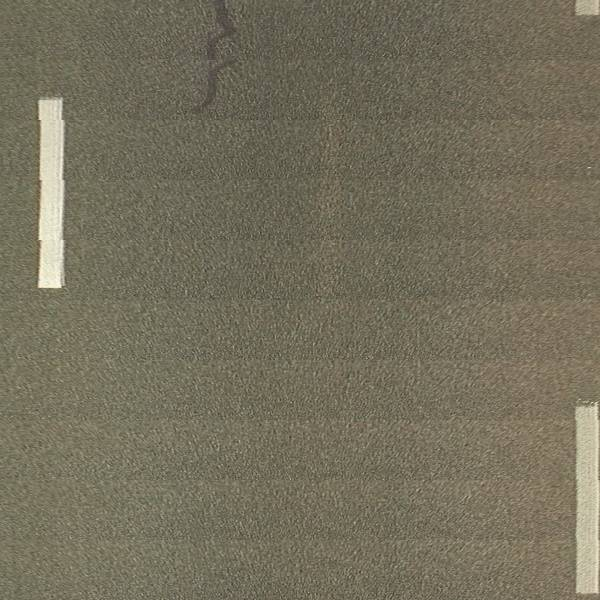road_damage: (183, 1, 248, 119)
